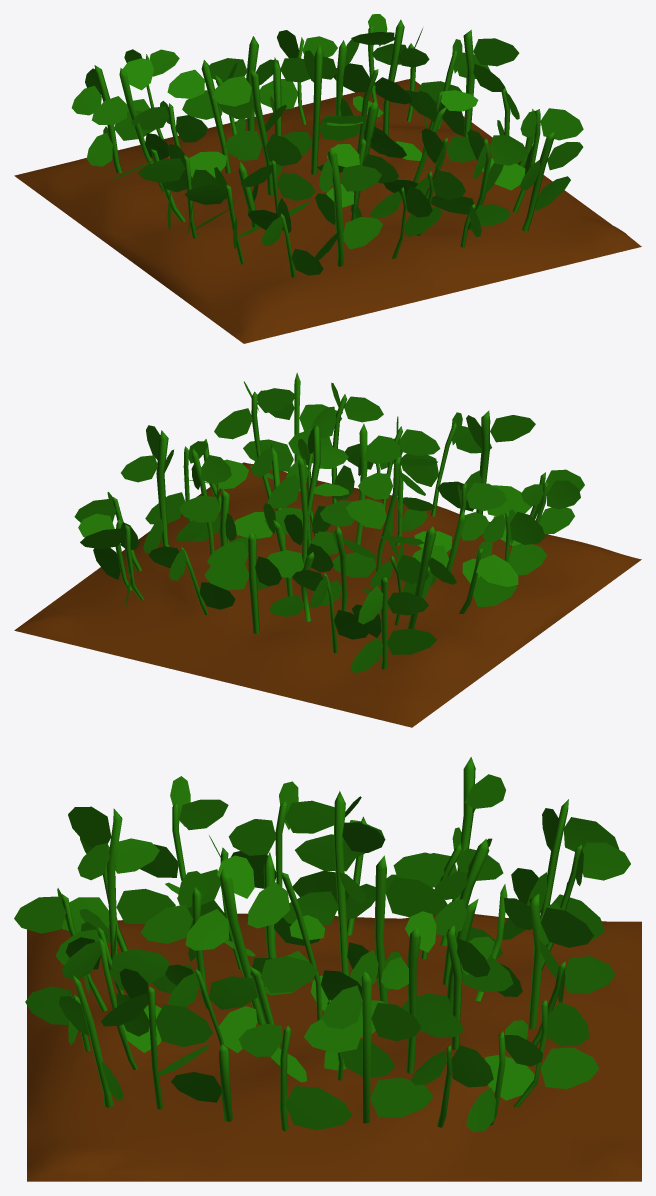
Rendered from yellow-rose-p1-bloom.glb.
3 views of the same model, one above another, from view 1: azimuth 30°, elevation 25°; view 2: azimuth 150°, elevation 25°; view 3: azimuth 270°, elevation 25° (orthographic). The views are drawn at different scales.
Parts seen in each view (by area): view 1: 1_nft_bloom; view 2: 1_nft_bloom; view 3: 1_nft_bloom.
Boxes of the visible parts, x1,y1,x2,y2 form: 1_nft_bloom: (14,14,641,343); 1_nft_bloom: (14,372,641,727); 1_nft_bloom: (14,757,641,1181).
Bounding box in the file's own units: 0.7088 × 0.2661 × 0.7147.
